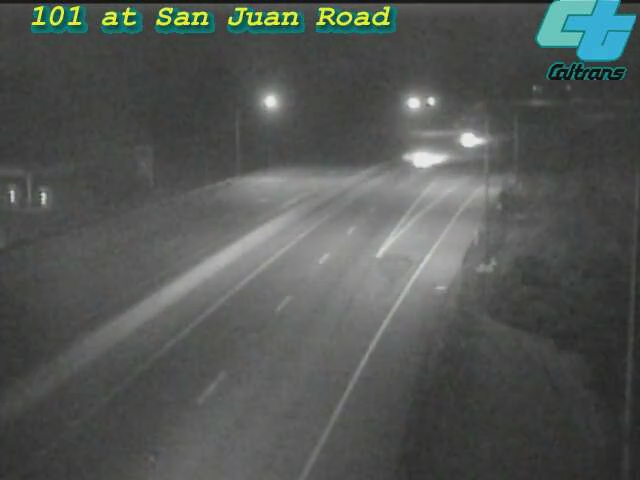vehicle: (442, 116, 492, 166), (398, 134, 448, 184)
